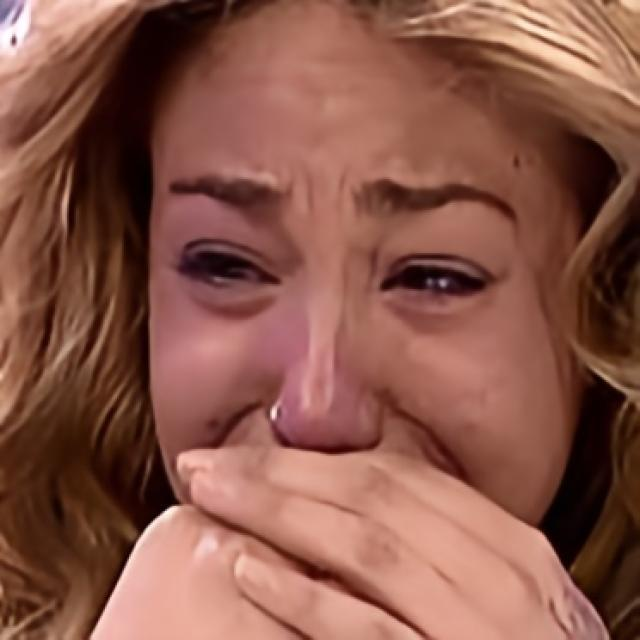sad: (145, 0, 582, 575)
